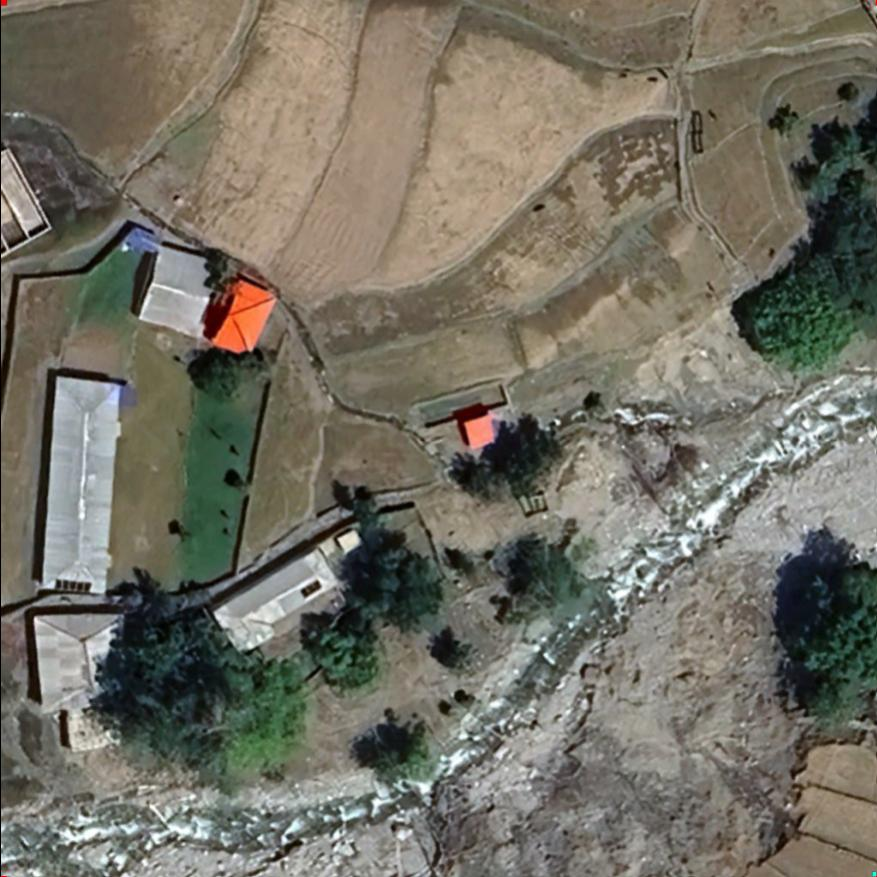Solarpanel: (48, 574, 94, 597), (296, 575, 327, 600)
